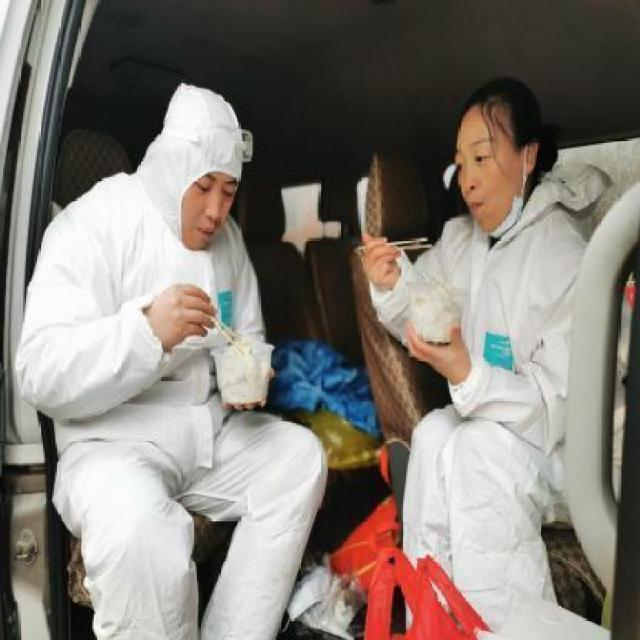No_Glasses: (444, 133, 510, 178)
face_nomask: (449, 131, 528, 217), (180, 166, 238, 243)
glasses: (198, 122, 260, 167)
hand_noglove: (150, 282, 218, 351), (403, 322, 472, 386), (362, 232, 403, 291), (220, 366, 272, 412)
head_nohelmet: (164, 80, 258, 183), (436, 77, 550, 132)
person: (20, 69, 326, 640), (357, 60, 614, 640)
